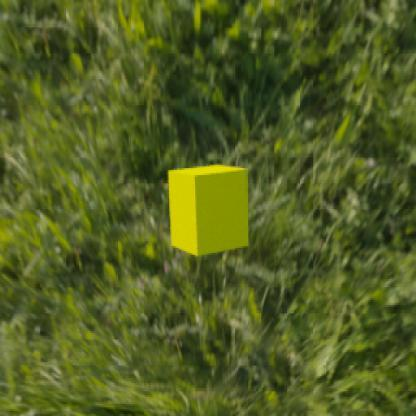cube: (168, 165, 249, 257)
